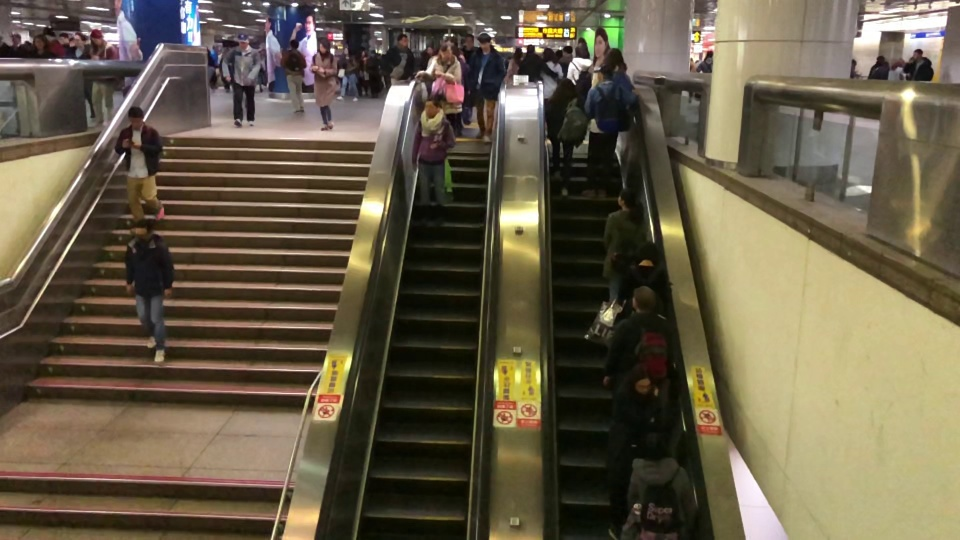person_head: (631, 285, 658, 313), (631, 363, 653, 390), (636, 240, 659, 263), (644, 433, 667, 455), (132, 218, 154, 238), (617, 187, 636, 206), (127, 105, 144, 125), (555, 78, 573, 95), (438, 42, 454, 61), (424, 97, 440, 116), (605, 47, 624, 63), (478, 32, 492, 52), (595, 65, 611, 81), (575, 42, 590, 57), (32, 35, 47, 49), (90, 29, 103, 45), (396, 32, 409, 47), (318, 37, 331, 51), (10, 32, 23, 45), (73, 32, 86, 45), (42, 26, 54, 37), (543, 48, 554, 59), (513, 46, 523, 58), (912, 48, 922, 60), (289, 39, 302, 48), (526, 43, 536, 54), (466, 34, 475, 46), (239, 35, 248, 45), (705, 48, 714, 57), (564, 45, 573, 53), (342, 47, 350, 55), (896, 58, 904, 66), (426, 46, 433, 54), (851, 59, 857, 67), (876, 55, 883, 61)
person_vbox: (605, 362, 657, 537), (123, 218, 176, 364), (602, 285, 673, 392), (625, 432, 695, 540), (583, 63, 637, 201), (114, 105, 166, 230), (412, 98, 455, 228), (602, 186, 643, 305), (220, 35, 263, 126), (416, 43, 463, 126), (545, 78, 575, 197), (474, 32, 504, 143), (90, 28, 120, 123), (309, 37, 339, 129), (623, 240, 660, 309), (66, 32, 95, 119), (279, 38, 308, 112), (591, 45, 633, 89), (566, 41, 592, 112), (383, 32, 414, 83), (461, 34, 478, 127), (519, 43, 557, 83), (336, 46, 360, 101), (539, 48, 563, 100), (903, 49, 935, 82), (41, 26, 65, 57), (506, 44, 523, 78), (867, 54, 888, 81), (31, 35, 54, 59), (9, 32, 28, 58), (696, 47, 715, 72), (559, 44, 574, 70), (888, 57, 904, 80), (850, 58, 861, 79)
